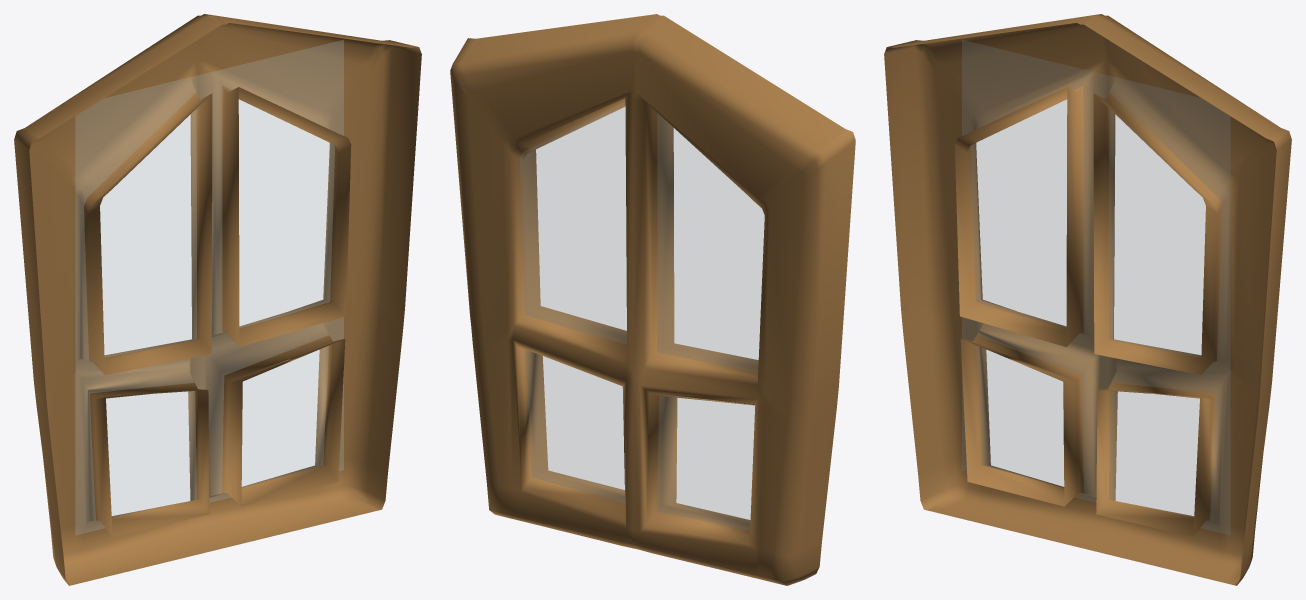
The model's file is props_window_2.fbx.
The picture shows the model from 3 angles, left to right: view 1: azimuth 30°, elevation 25°; view 2: azimuth 150°, elevation 25°; view 3: azimuth 330°, elevation 25°; orthographic projection.
Parts seen in each view (by area): view 1: Props_window2; view 2: Props_window2; view 3: Props_window2.
Part boxes in pixels (bbox=[...]): Props_window2: bbox=[14, 14, 421, 585]; Props_window2: bbox=[450, 14, 855, 585]; Props_window2: bbox=[884, 14, 1291, 585].
Bounding box in the file's own units: 1.88 × 0.2289 × 2.4.
